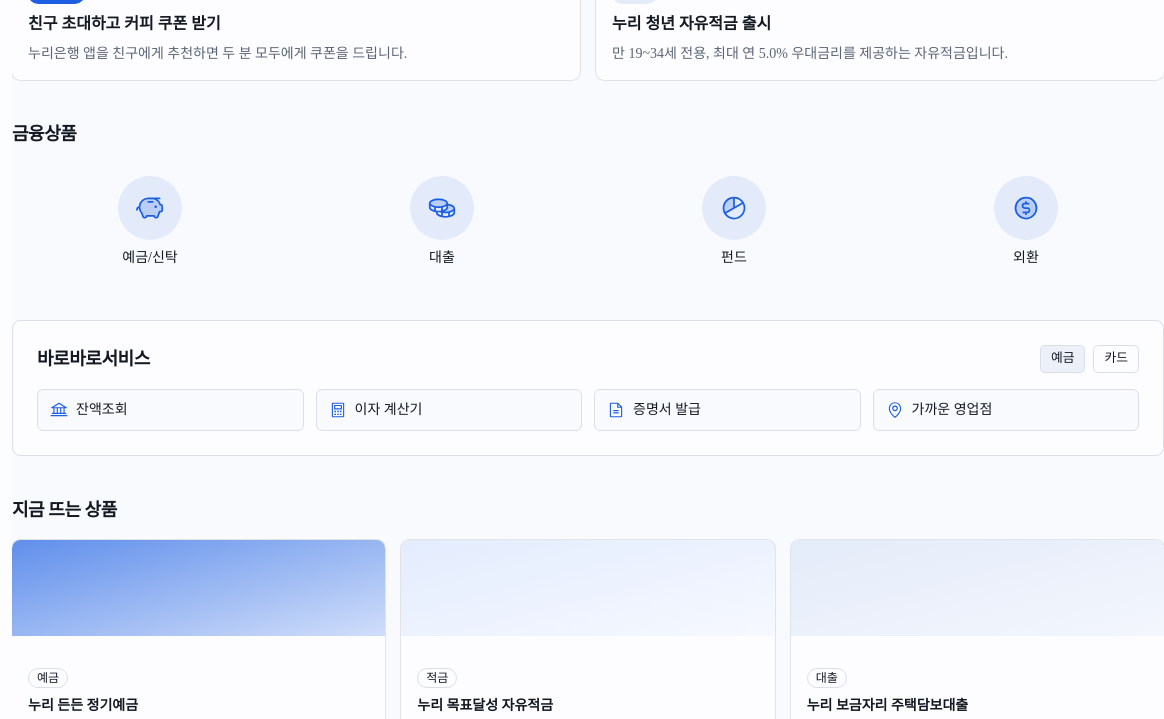
BankHomePage › renders the deposit quick links by default and switches to card on toggle
(page scrolled)
Expected: the link "잔액조회" is shown, [37,389,304,431]
Expected: the link "이자 계산기" is shown, [316,389,582,431]
What coordinates should you click on to do the following:
click the radio button labelled "카드"
I would click on:
 (1116, 359)
Its box is [1094,345,1139,373].
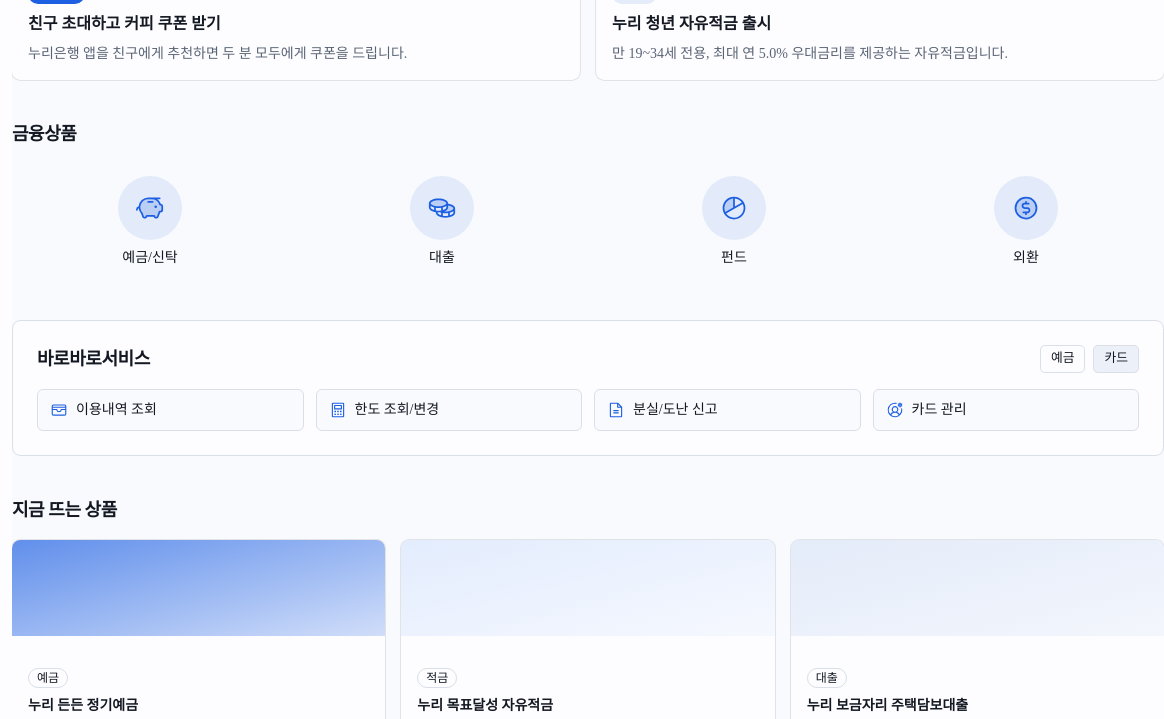
Result: the link "이용내역 조회" is shown at [37,389,304,431]
Result: the link "한도 조회/변경" is shown at [316,389,582,431]
Result: the link "분실/도난 신고" is shown at [594,389,860,431]
